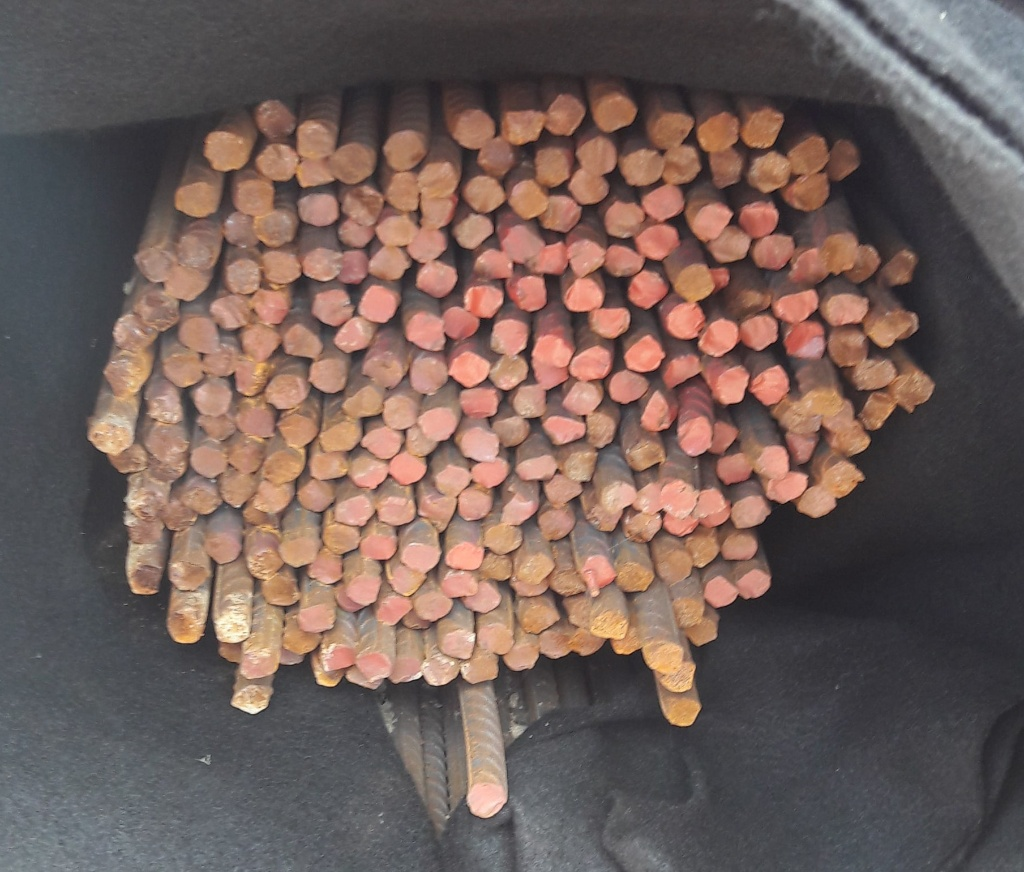dipstick: (384, 130, 424, 170), (294, 121, 333, 161), (206, 132, 247, 170), (623, 149, 664, 187), (545, 96, 584, 135), (698, 112, 738, 150), (174, 181, 216, 217), (466, 176, 506, 213), (91, 417, 132, 453), (752, 365, 788, 406), (751, 154, 789, 192), (411, 357, 448, 396), (786, 322, 825, 359), (745, 109, 782, 148), (653, 113, 693, 149), (752, 235, 793, 270), (643, 186, 684, 221), (258, 101, 296, 138), (455, 111, 493, 148), (700, 319, 738, 356), (790, 136, 827, 174), (570, 345, 609, 381), (257, 147, 297, 182), (789, 174, 829, 209), (335, 145, 372, 182), (676, 265, 713, 302), (568, 238, 604, 276), (467, 783, 506, 818), (268, 375, 308, 409), (116, 316, 157, 349), (408, 313, 444, 350), (461, 427, 498, 463), (664, 147, 700, 184), (451, 352, 489, 387), (626, 337, 664, 372), (577, 140, 615, 175), (103, 361, 142, 395), (278, 414, 317, 448), (301, 247, 341, 280), (777, 290, 817, 323), (828, 137, 858, 181), (297, 193, 338, 225), (376, 216, 418, 247), (387, 172, 418, 214), (543, 197, 579, 233), (310, 359, 347, 394), (667, 304, 704, 339), (630, 272, 665, 309), (409, 229, 447, 263), (314, 291, 352, 325), (165, 352, 203, 386), (490, 355, 528, 389), (263, 450, 303, 482), (165, 268, 206, 299), (419, 162, 455, 197), (195, 381, 231, 416), (343, 189, 380, 223), (181, 319, 218, 353), (360, 286, 394, 323), (228, 437, 262, 474), (829, 331, 866, 365), (693, 202, 730, 236), (711, 230, 748, 264), (256, 213, 294, 246), (140, 296, 178, 329), (418, 497, 456, 530), (823, 233, 856, 271), (365, 354, 404, 386), (871, 314, 910, 346), (679, 416, 710, 456), (855, 360, 895, 391), (137, 248, 173, 282), (511, 182, 545, 218), (607, 203, 643, 237), (344, 386, 382, 418), (148, 428, 186, 460), (609, 371, 647, 403), (418, 265, 457, 296), (458, 386, 497, 417), (663, 355, 702, 386), (640, 226, 679, 257), (237, 182, 272, 216), (149, 388, 183, 423), (826, 297, 867, 326), (179, 235, 215, 268), (565, 278, 601, 311), (506, 111, 543, 143), (368, 248, 405, 280), (284, 326, 321, 358), (740, 318, 777, 350), (254, 481, 292, 512), (262, 253, 301, 283), (362, 428, 401, 458), (503, 228, 542, 258), (479, 141, 513, 175), (335, 319, 370, 352), (881, 250, 914, 285), (793, 249, 826, 284), (513, 278, 548, 311), (221, 474, 257, 506), (491, 321, 527, 353), (833, 426, 870, 457), (536, 148, 566, 186), (606, 247, 644, 277), (589, 308, 628, 337), (743, 203, 777, 236), (244, 326, 279, 358), (232, 686, 272, 714), (467, 286, 503, 317), (538, 509, 574, 540), (658, 550, 689, 586), (228, 259, 258, 296), (213, 297, 250, 327), (390, 455, 427, 485), (472, 459, 509, 489), (423, 656, 460, 686), (127, 487, 165, 516), (337, 496, 375, 525), (515, 455, 557, 481), (664, 482, 697, 515), (384, 394, 416, 428), (545, 477, 580, 508), (733, 497, 768, 528), (565, 382, 600, 413), (457, 216, 492, 247), (892, 377, 932, 404), (626, 440, 663, 469), (718, 367, 747, 404), (349, 459, 387, 487), (419, 197, 453, 228), (191, 446, 225, 477), (299, 481, 333, 512), (309, 551, 343, 582), (182, 486, 221, 513), (521, 607, 560, 634), (474, 252, 513, 279), (648, 644, 683, 674), (862, 394, 892, 429), (571, 172, 606, 202), (446, 542, 482, 571), (465, 584, 501, 613), (711, 150, 740, 186), (400, 543, 440, 569), (236, 408, 273, 436), (323, 423, 360, 451), (415, 592, 452, 620), (170, 562, 208, 589), (756, 447, 788, 479), (534, 243, 567, 274), (248, 547, 282, 577), (704, 577, 738, 607), (546, 416, 585, 442), (618, 564, 654, 592), (323, 525, 360, 552), (623, 514, 660, 541), (798, 488, 835, 515), (255, 292, 287, 323), (687, 536, 719, 567), (827, 463, 858, 495), (479, 624, 512, 654), (196, 414, 234, 440), (484, 526, 522, 552), (281, 538, 315, 567), (421, 409, 455, 438), (767, 475, 806, 500), (262, 579, 298, 606), (533, 337, 569, 364), (591, 611, 627, 638), (204, 347, 236, 377), (445, 308, 477, 338), (459, 491, 491, 521), (583, 557, 615, 587), (169, 614, 202, 643), (242, 650, 275, 679), (586, 414, 615, 447), (377, 597, 411, 625), (435, 466, 469, 494), (501, 498, 535, 526), (718, 455, 752, 483), (461, 657, 496, 684), (310, 453, 346, 479), (643, 394, 669, 430), (514, 387, 544, 418), (565, 450, 597, 479), (126, 519, 163, 544), (298, 160, 333, 186), (379, 497, 414, 523), (721, 535, 757, 560), (854, 245, 879, 281), (130, 565, 161, 594), (226, 216, 254, 248), (442, 630, 474, 658), (738, 570, 771, 597), (341, 252, 367, 286), (301, 605, 335, 631), (662, 666, 696, 692), (235, 360, 260, 395), (551, 572, 586, 597), (604, 482, 635, 510), (693, 489, 724, 517), (667, 700, 699, 727), (785, 408, 821, 432), (147, 460, 184, 483), (206, 538, 240, 563), (350, 576, 380, 604), (540, 630, 570, 658), (571, 631, 606, 655), (215, 616, 247, 642), (404, 430, 436, 456), (672, 599, 704, 625), (443, 573, 477, 597), (787, 434, 816, 462), (823, 403, 852, 431), (688, 619, 719, 645), (533, 364, 568, 387), (589, 507, 621, 532), (340, 223, 374, 246), (112, 448, 146, 471), (166, 504, 196, 530), (497, 419, 527, 445), (361, 537, 396, 559), (804, 391, 839, 413), (286, 631, 318, 655), (392, 571, 425, 594), (506, 647, 539, 670), (518, 558, 549, 582), (482, 554, 509, 581), (636, 484, 663, 511), (392, 658, 422, 682), (713, 422, 736, 453), (567, 599, 591, 628), (323, 644, 356, 665), (360, 655, 389, 678), (348, 670, 380, 689), (613, 630, 638, 653), (666, 517, 696, 535), (514, 584, 546, 598), (699, 510, 727, 526), (316, 670, 340, 687)
